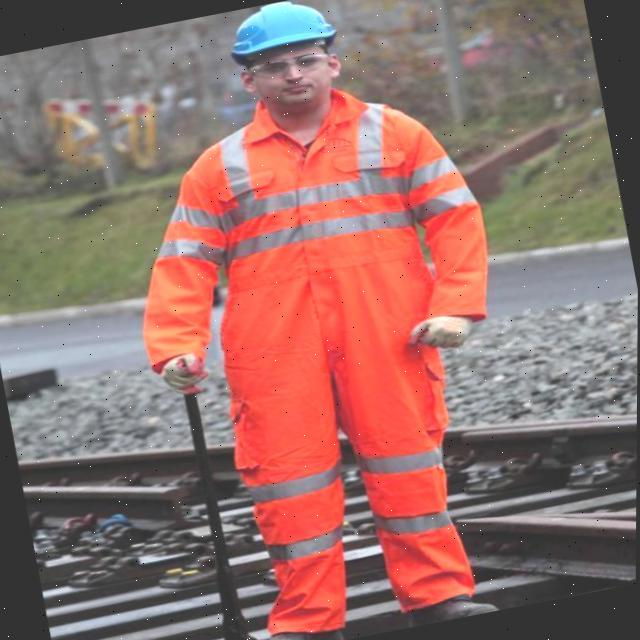goggles_on: (240, 47, 346, 85)
